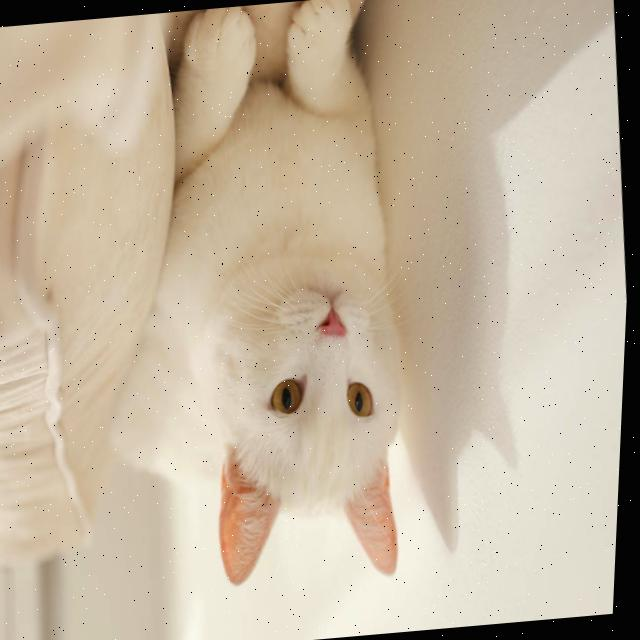Khao Manee: (72, 0, 441, 604)
